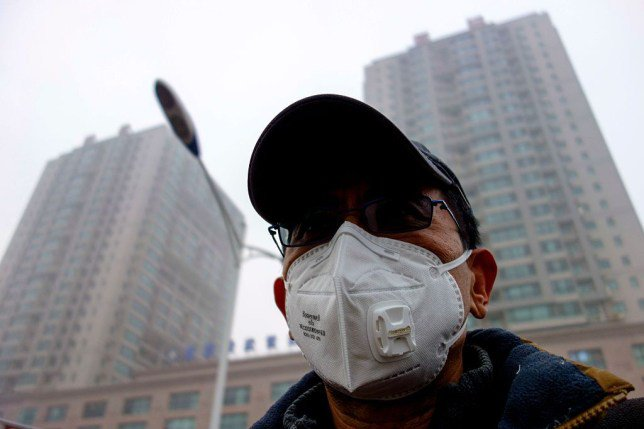mask: (237, 164, 480, 379)
